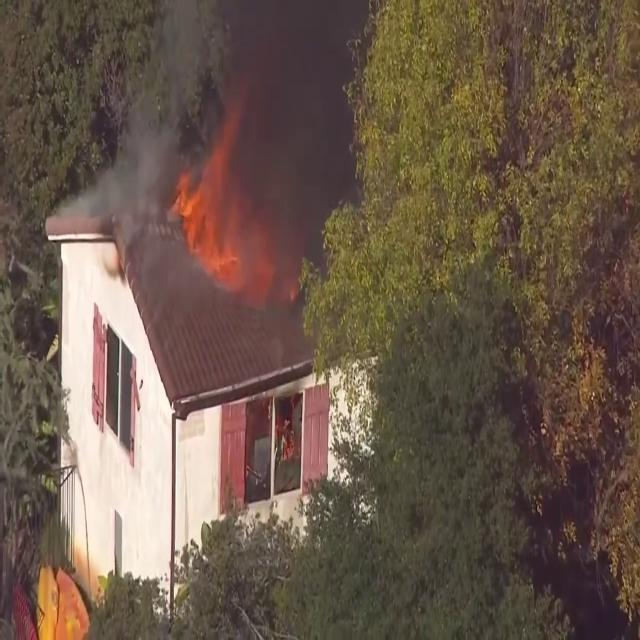Fire: (172, 116, 246, 288)
Smoke: (75, 1, 339, 306)
